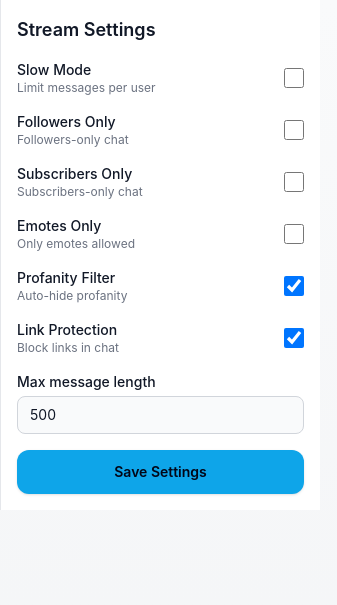
StreamSettingsForm › reveals the followers-only duration input when followers-only is toggled on
Check: the heading "Stream Settings" is shown, box [17, 19, 156, 40]
Check: the button "Save Settings" is enabled, box [17, 450, 304, 494]
Click the checkbox labelled "Followers Only Followers-only chat" at [294, 130], box [284, 120, 304, 140]
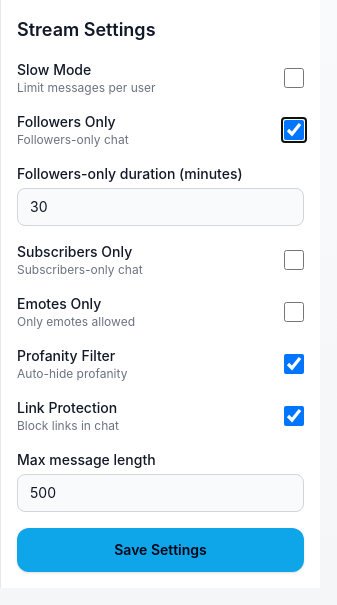
Check: the number field labelled "Followers-only duration (minutes)" is shown, box [17, 188, 304, 226]
